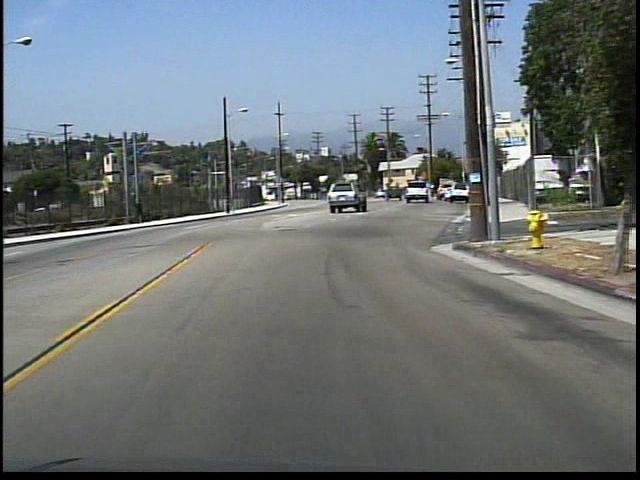person: (135, 194, 149, 225)
